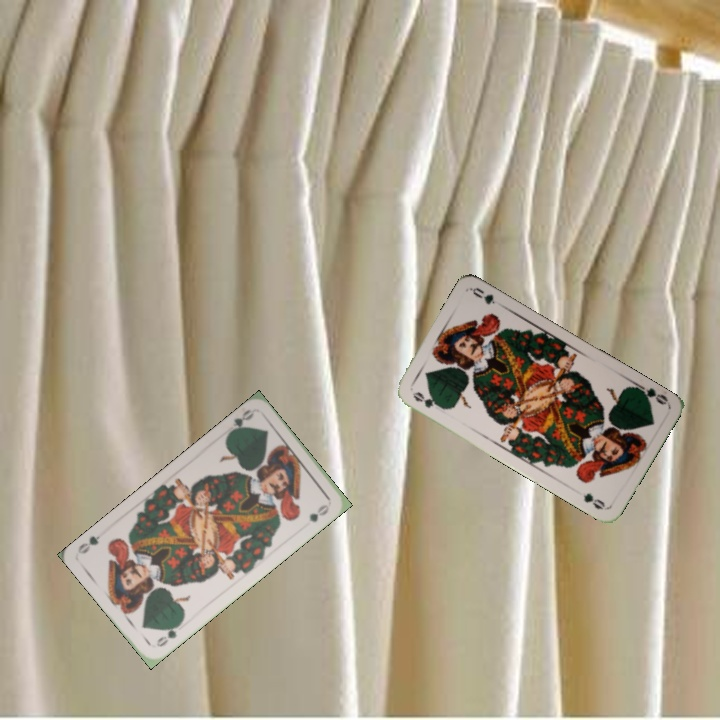GO: (223, 405, 257, 439), (631, 380, 671, 408), (152, 618, 184, 649), (408, 388, 446, 411)
